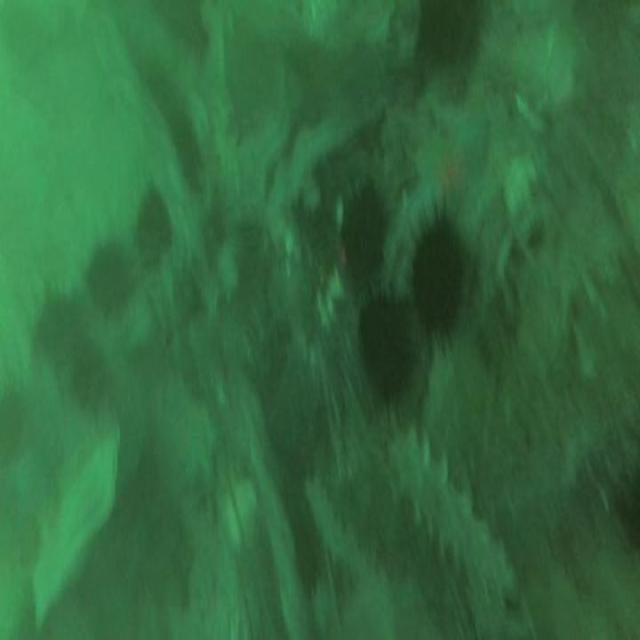echinus: (411, 226, 466, 333), (357, 296, 415, 395), (342, 191, 386, 277), (35, 297, 81, 362), (87, 246, 130, 312), (134, 194, 171, 264), (74, 346, 106, 408)
holothurian: (389, 433, 514, 597)
starfish: (409, 121, 491, 216)
